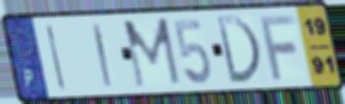5: (171, 16, 213, 86)
D: (213, 13, 264, 85)
F: (257, 13, 298, 83)
I: (44, 21, 69, 93), (90, 21, 115, 90)
M: (121, 16, 184, 91)
